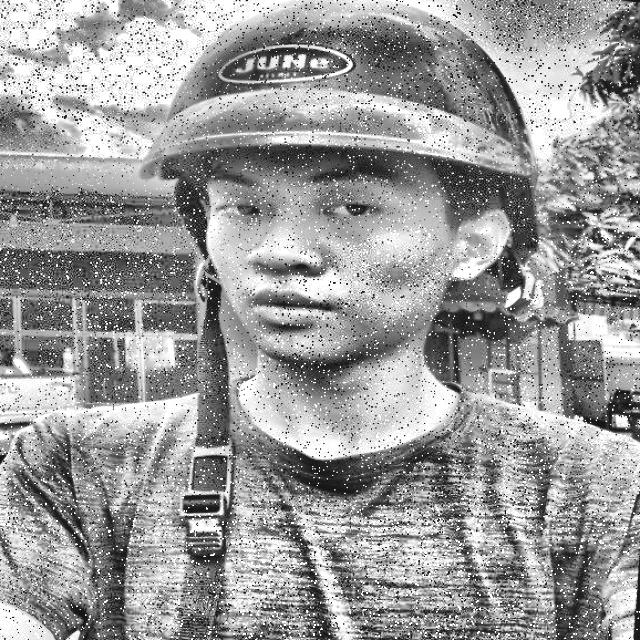Helmet: (97, 0, 580, 448)
